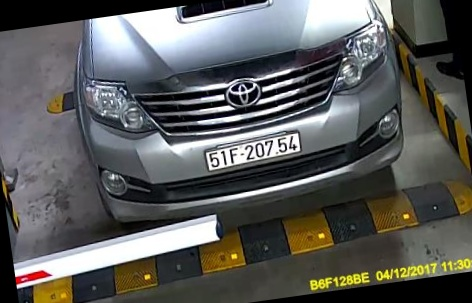plate: (197, 124, 308, 178)
